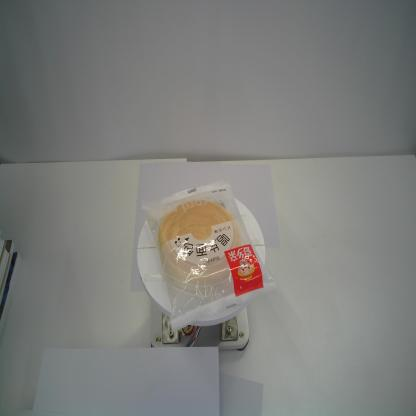Dessert: (138, 178, 277, 330)
